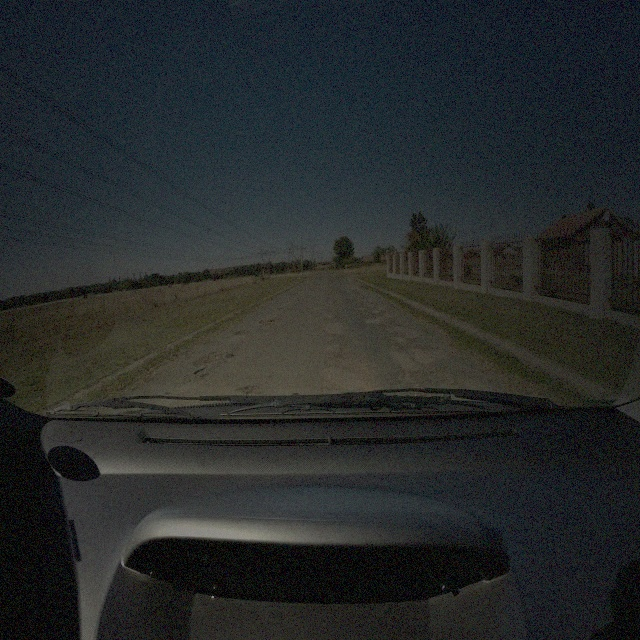pothole: (194, 350, 235, 370), (240, 383, 264, 395), (411, 381, 427, 392), (260, 319, 280, 326), (338, 344, 351, 354), (234, 327, 249, 335), (278, 306, 286, 314)
